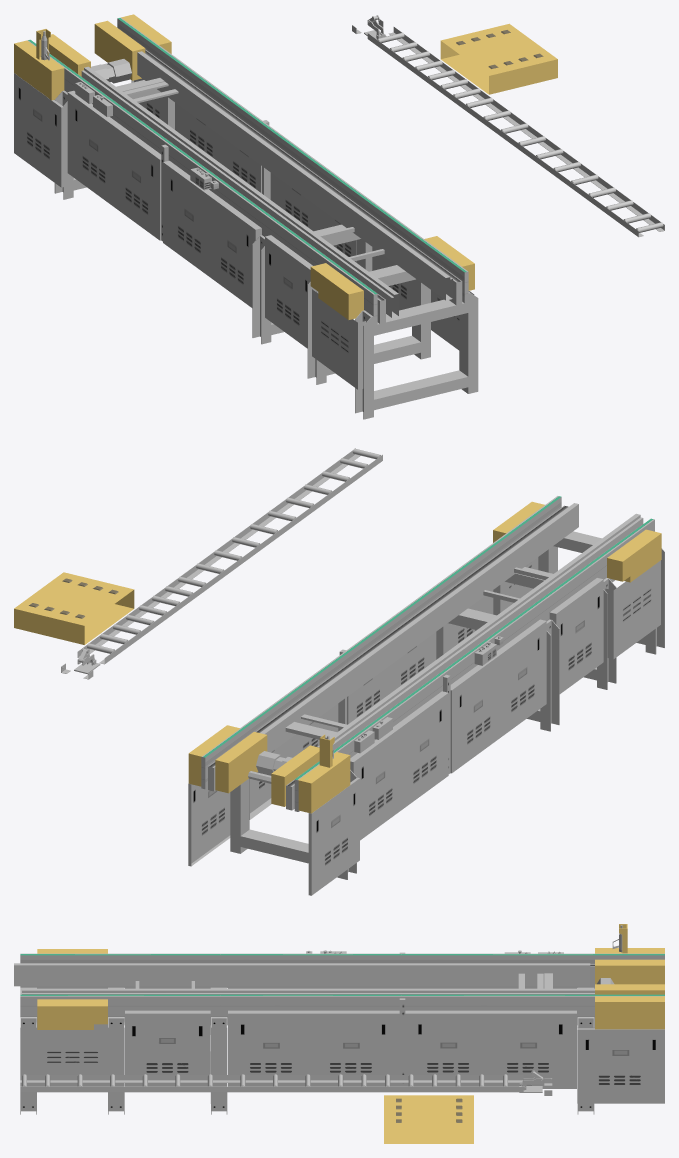
The model's file is liushui3.FBX.
The picture shows the model from 3 angles, top to bottom: view 1: azimuth 30°, elevation 25°; view 2: azimuth 150°, elevation 25°; view 3: azimuth 270°, elevation 25°; orthographic projection. The views are drawn at different scales.
Visible parts, largest first — view 1: YF_Model_liushui3_1, YF_Model_liushui3_3, YF_Model_liushui3_2, YF_Model_liushui3_8, YF_Model_liushui3_5, YF_Model_liushui3_7, YF_Model_liushui3_6; view 2: YF_Model_liushui3_1, YF_Model_liushui3_3, YF_Model_liushui3_2, YF_Model_liushui3_8, YF_Model_liushui3_7, YF_Model_liushui3_5, YF_Model_liushui3_6; view 3: YF_Model_liushui3_1, YF_Model_liushui3_3, YF_Model_liushui3_2, YF_Model_liushui3_8, YF_Model_liushui3_7, YF_Model_liushui3_5, YF_Model_liushui3_6, YF_Model_liushui3_4.
Boxes of the visible parts, x1=… form: YF_Model_liushui3_1: x1=14, y1=14, x2=267, y2=241; YF_Model_liushui3_3: x1=261, y1=192, x2=478, y2=419; YF_Model_liushui3_2: x1=163, y1=121, x2=360, y2=337; YF_Model_liushui3_8: x1=440, y1=23, x2=557, y2=94; YF_Model_liushui3_5: x1=367, y1=27, x2=501, y2=117; YF_Model_liushui3_7: x1=527, y1=143, x2=664, y2=237; YF_Model_liushui3_6: x1=476, y1=106, x2=553, y2=155; YF_Model_liushui3_1: x1=188, y1=650, x2=449, y2=895; YF_Model_liushui3_3: x1=447, y1=496, x2=664, y2=724; YF_Model_liushui3_2: x1=342, y1=577, x2=550, y2=773; YF_Model_liushui3_8: x1=14, y1=572, x2=134, y2=644; YF_Model_liushui3_7: x1=241, y1=448, x2=382, y2=543; YF_Model_liushui3_5: x1=77, y1=570, x2=215, y2=664; YF_Model_liushui3_6: x1=189, y1=532, x2=268, y2=582; YF_Model_liushui3_1: x1=401, y1=924, x2=664, y2=1114; YF_Model_liushui3_3: x1=14, y1=949, x2=220, y2=1114; YF_Model_liushui3_2: x1=220, y1=950, x2=401, y2=1114; YF_Model_liushui3_8: x1=384, y1=1095, x2=473, y2=1143; YF_Model_liushui3_7: x1=20, y1=1074, x2=227, y2=1092; YF_Model_liushui3_5: x1=322, y1=1074, x2=523, y2=1092; YF_Model_liushui3_6: x1=227, y1=1074, x2=322, y2=1092; YF_Model_liushui3_4: x1=519, y1=1070, x2=552, y2=1095.
Size of the model in its own units: 311 by 113 by 477.
